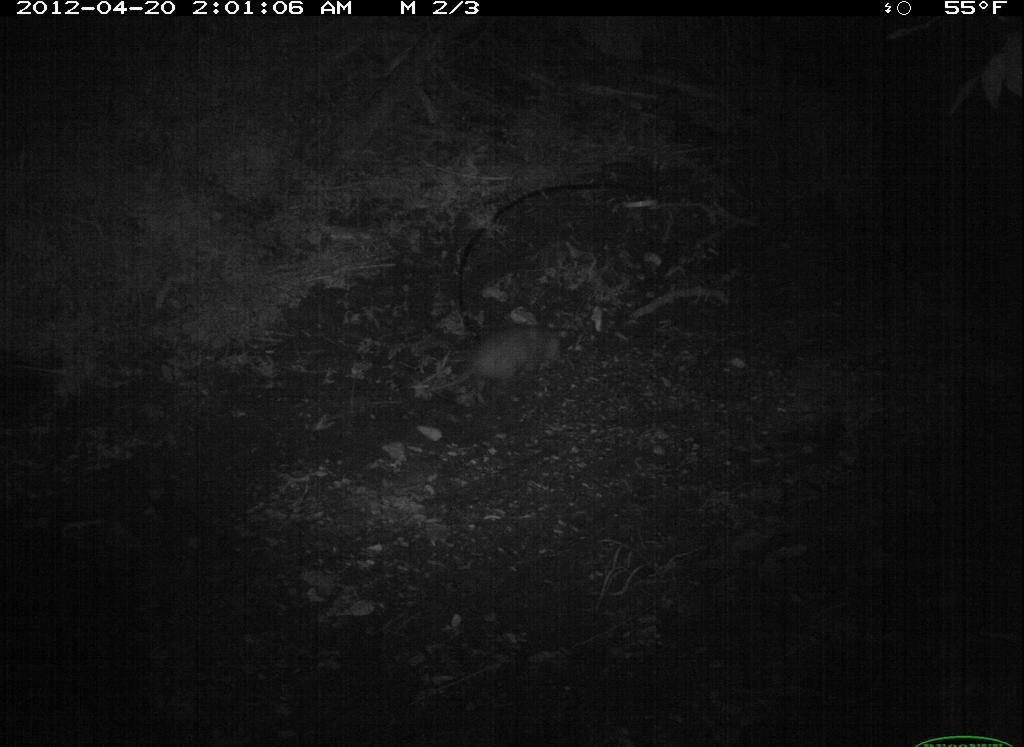opossum: (431, 305, 584, 405)
